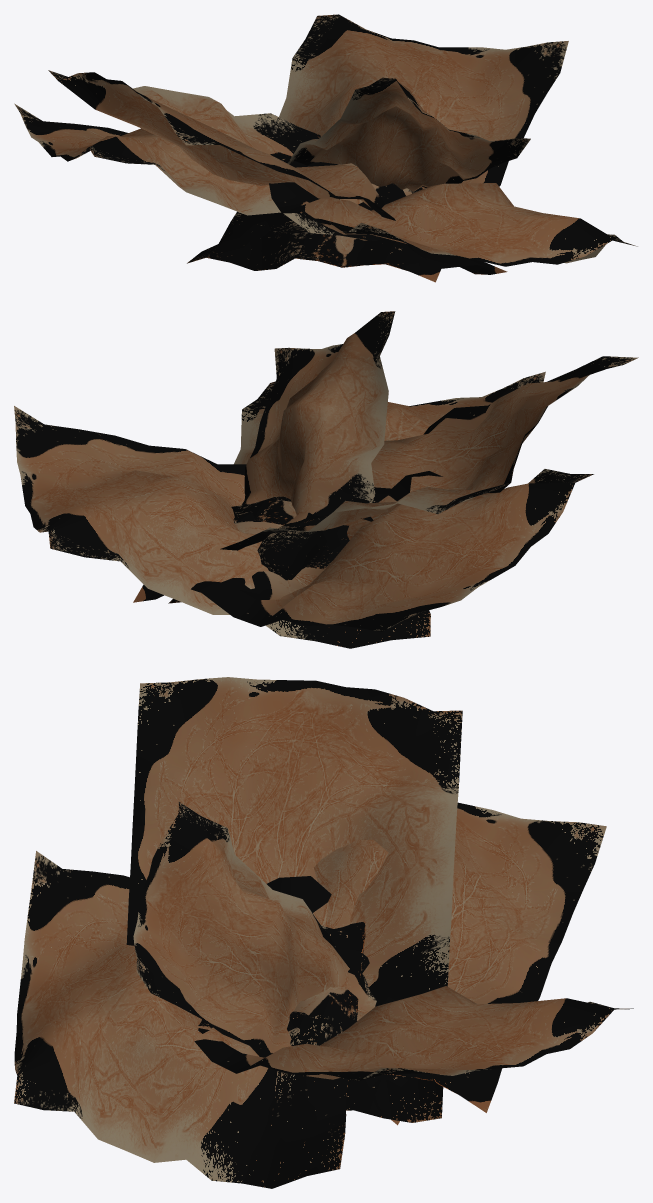
The model's file is algue_02.fbx.
3 renders of one model, top to bottom at view 1: azimuth 30°, elevation 25°; view 2: azimuth 150°, elevation 25°; view 3: azimuth 270°, elevation 25°, orthographic. The views are drawn at different scales.
Parts seen in each view (by area): view 1: Arthrocladia_villosa_Crouan.004; view 2: Arthrocladia_villosa_Crouan.004; view 3: Arthrocladia_villosa_Crouan.004.
Boxes of the visible parts, box(x1,y1,x2,y2) form: Arthrocladia_villosa_Crouan.004: box(14, 14, 637, 282); Arthrocladia_villosa_Crouan.004: box(14, 311, 638, 648); Arthrocladia_villosa_Crouan.004: box(14, 677, 633, 1188).
Size of the model in its own units: 58.55 by 27.33 by 52.56.
